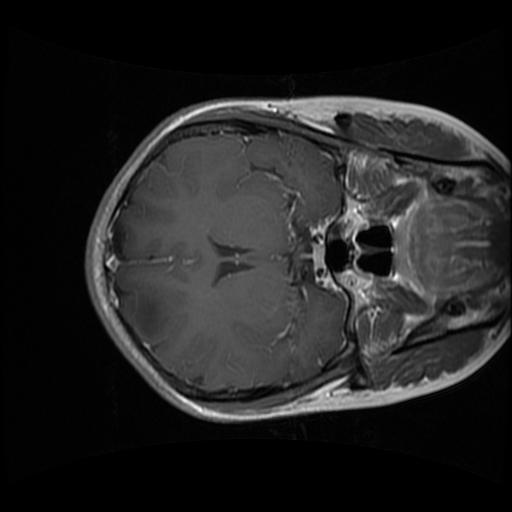glioma: (119, 285, 177, 342)
